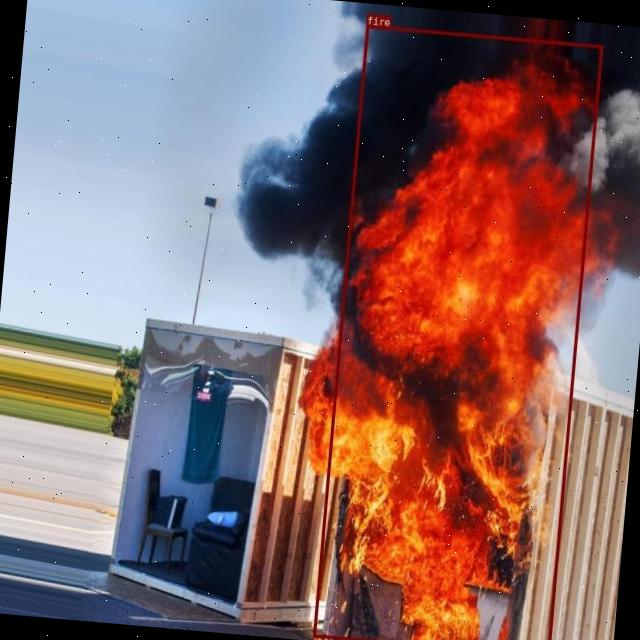fire: (312, 24, 602, 640)
